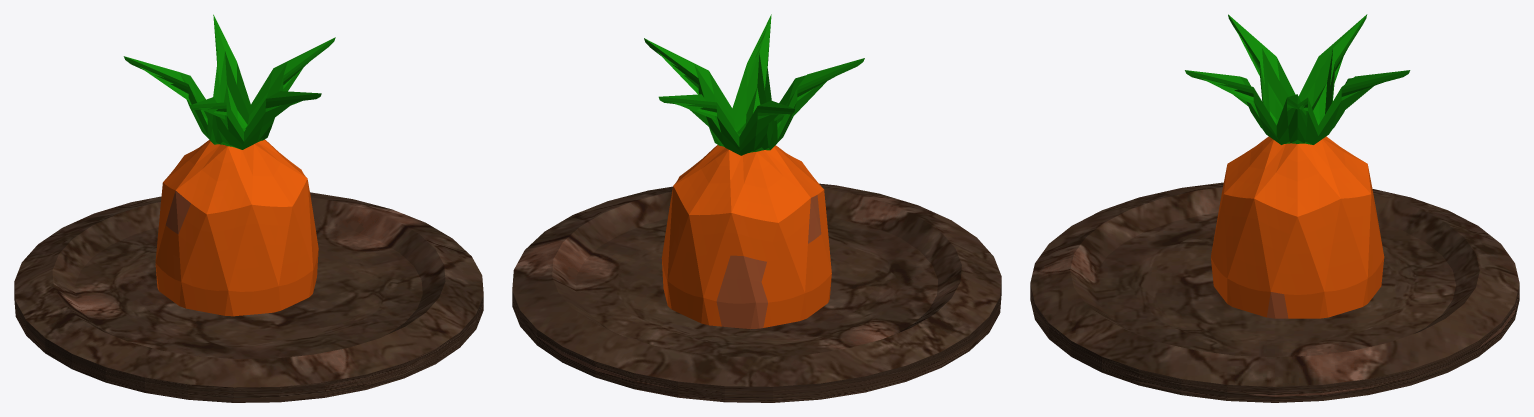
The model's file is carrot2.fbx.
3 views of the same model, side by side, from view 1: azimuth 30°, elevation 25°; view 2: azimuth 150°, elevation 25°; view 3: azimuth 270°, elevation 25° (orthographic). The views are drawn at different scales.
Visible parts, largest first — view 1: Cylinder.006; view 2: Cylinder.006; view 3: Cylinder.006.
Part boxes in pixels (x1,y1,x2,y2): Cylinder.006: (14,14,483,402); Cylinder.006: (512,14,1001,402); Cylinder.006: (1030,14,1519,402).
Bounding box in the file's own units: 20 × 12.78 × 20.
